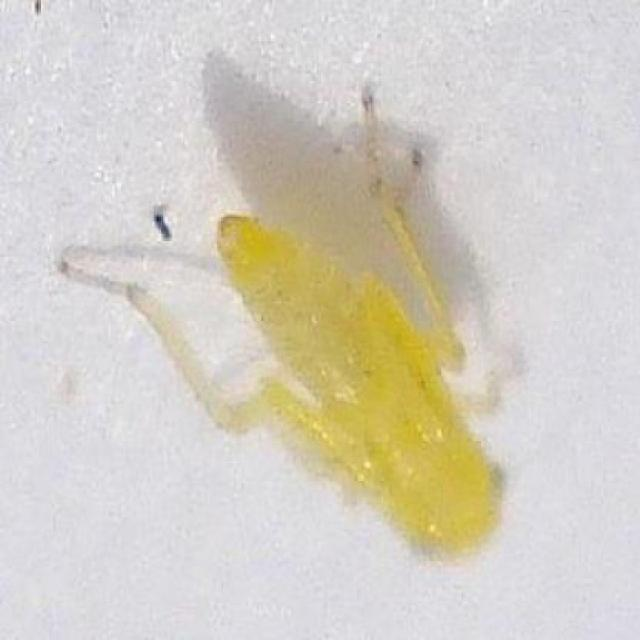green-leafhopper: (133, 159, 504, 556)
